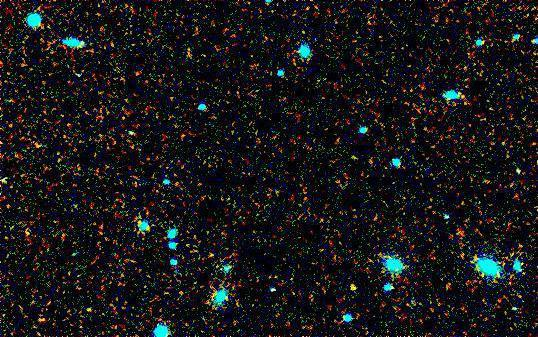star: (338, 272, 368, 302)
